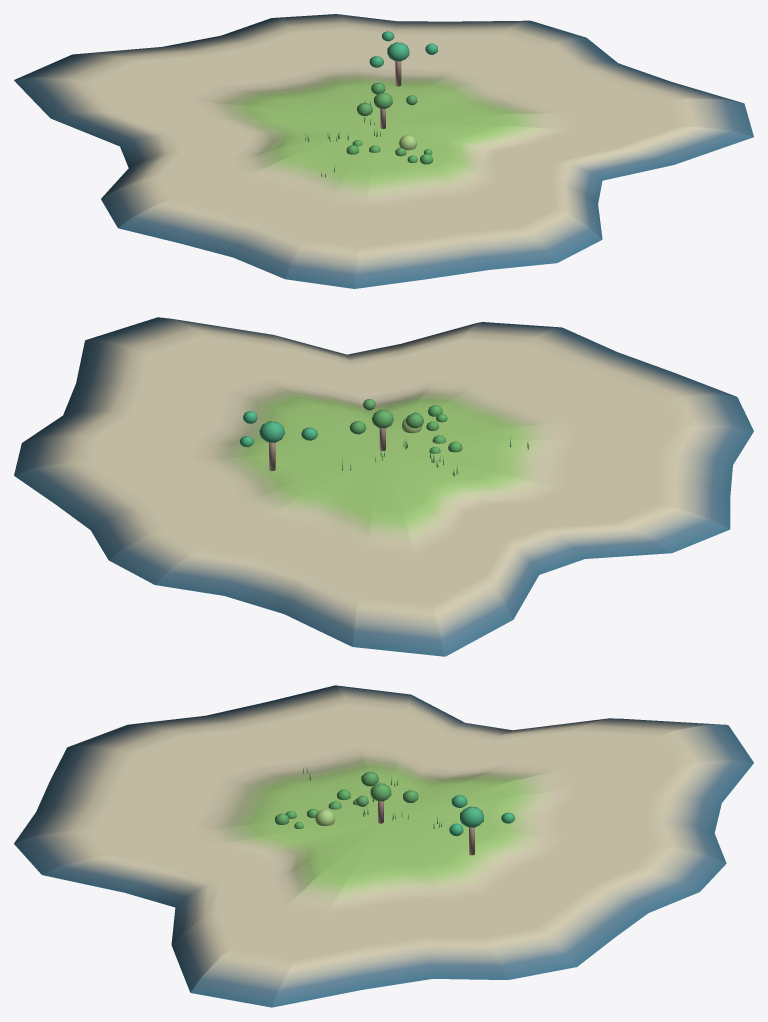
Rendered from terrain_island_05.glb.
The picture shows the model from 3 angles, top to bottom: view 1: azimuth 30°, elevation 25°; view 2: azimuth 150°, elevation 25°; view 3: azimuth 270°, elevation 25°; orthographic projection. The views are drawn at different scales.
Parts seen in each view (by area): view 1: island_terrain; view 2: island_terrain; view 3: island_terrain.
Boxes of the visible parts, bbox=[...] form: island_terrain: bbox=[14, 14, 753, 288]; island_terrain: bbox=[14, 317, 753, 656]; island_terrain: bbox=[14, 685, 753, 1007].
Bounding box in the file's own units: 626 × 56.17 × 608.
